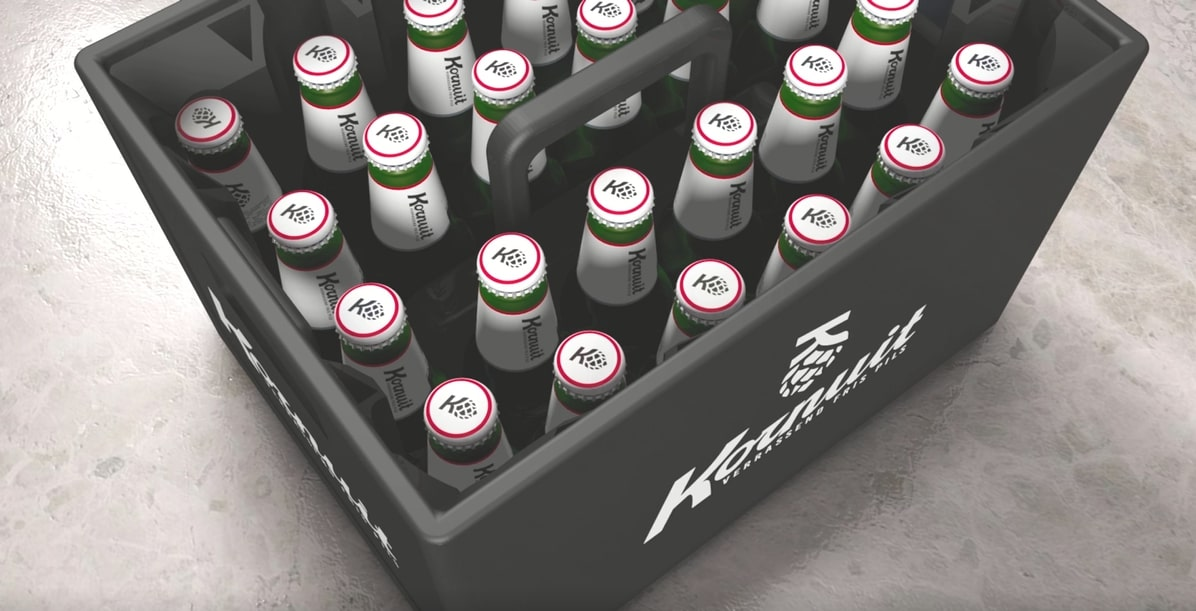kornuit: (422, 374, 500, 450), (551, 328, 627, 396), (333, 281, 405, 349), (474, 231, 548, 296), (674, 256, 745, 320), (264, 188, 336, 250), (587, 166, 658, 225), (781, 191, 851, 249), (691, 100, 759, 158), (878, 121, 947, 178), (174, 93, 240, 151), (362, 112, 428, 169), (783, 42, 851, 96), (291, 34, 356, 89), (951, 39, 1015, 94), (471, 48, 534, 101), (574, 1, 638, 35)
